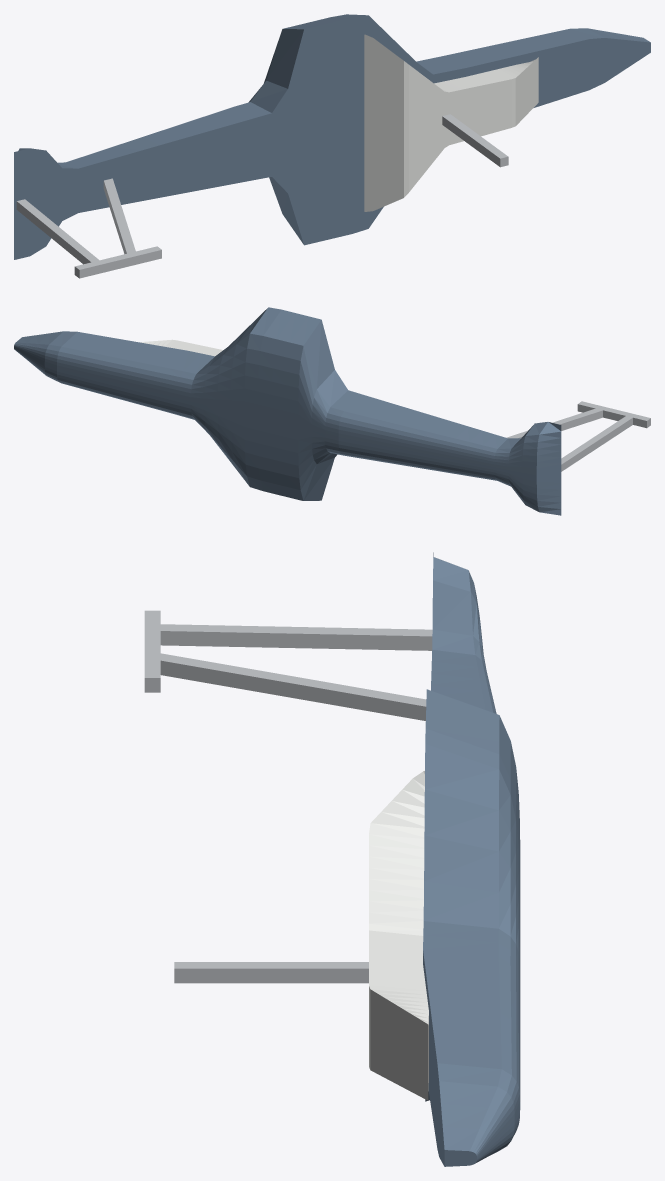
Rendered from wing-in-ground-loft.glb.
3 views of the same model, one above another, from view 1: azimuth 30°, elevation 25°; view 2: azimuth 150°, elevation 25°; view 3: azimuth 270°, elevation 25° (orthographic). The views are drawn at different scales.
Visible parts, largest first — view 1: wing-in-ground; view 2: wing-in-ground; view 3: wing-in-ground.
Boxes of the visible parts, bbox=[...] form: wing-in-ground: bbox=[14, 14, 650, 278]; wing-in-ground: bbox=[14, 307, 650, 515]; wing-in-ground: bbox=[144, 552, 520, 1166].
Bounding box in the file's own units: 1.92 × 0.6 × 0.5634.
